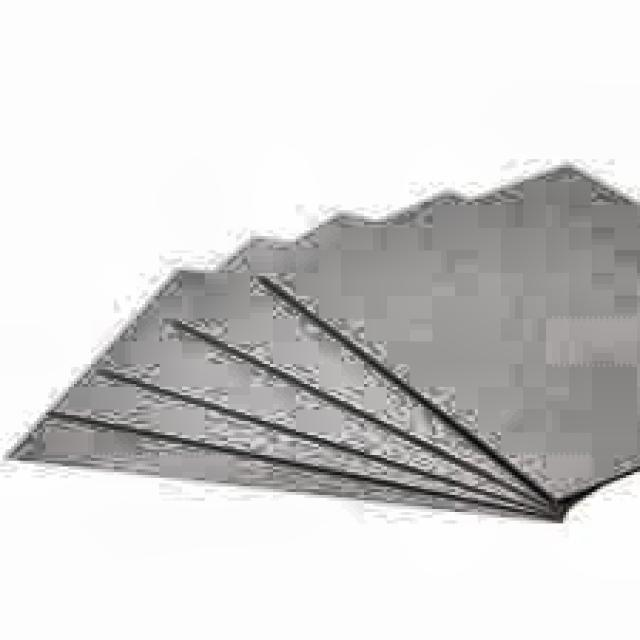cardboard: (0, 156, 637, 524)
